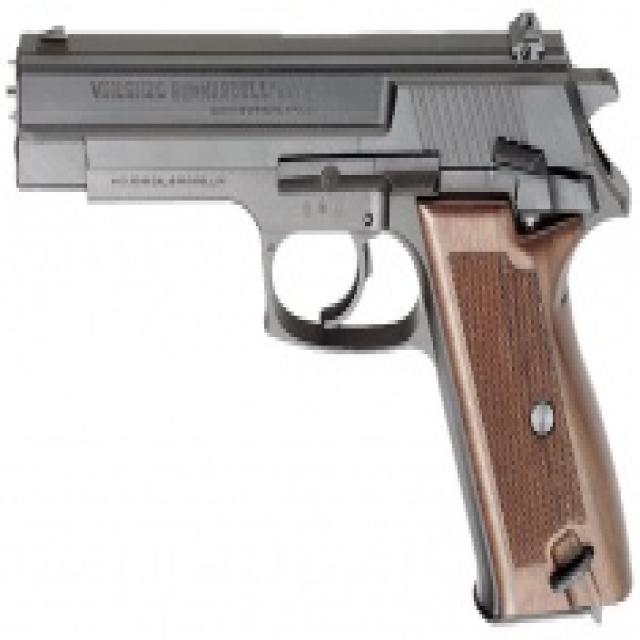pistol: (4, 1, 639, 629)
